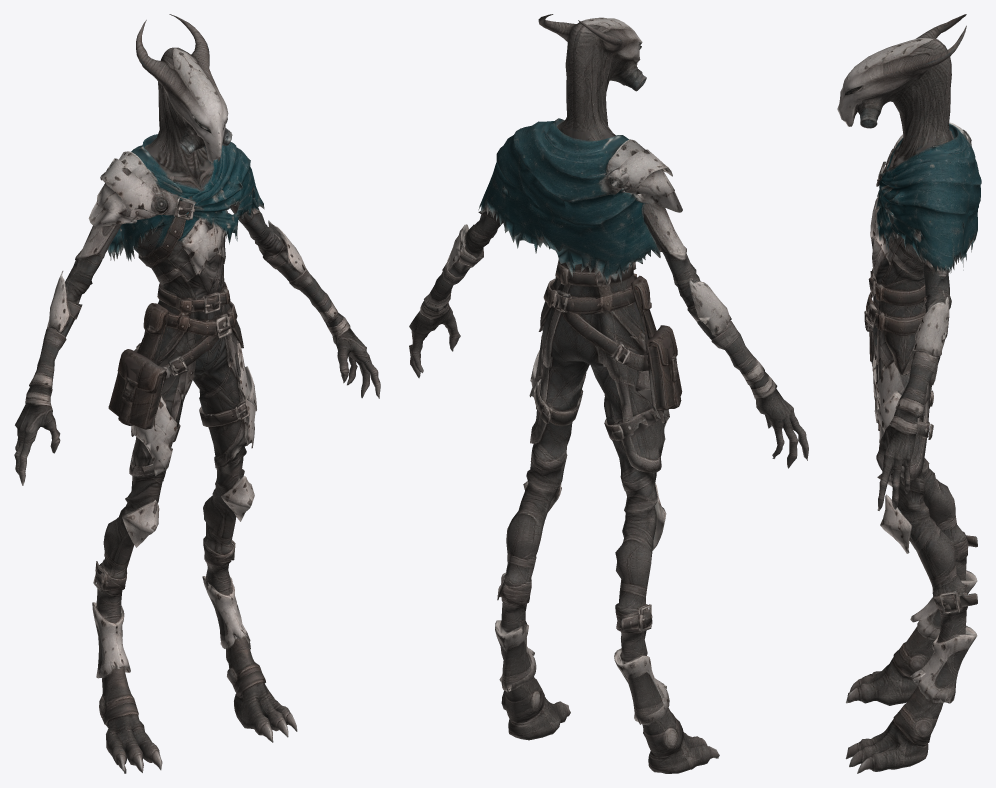
Rendered from varrik_rifleman.glb.
The picture shows the model from 3 angles, left to right: view 1: azimuth 30°, elevation 25°; view 2: azimuth 150°, elevation 25°; view 3: azimuth 270°, elevation 25°; orthographic projection. The views are drawn at different scales.
Bounding box in the file's own units: 0.5151 × 0.9507 × 0.1748.
Materials: 1 (1 with a texture image).
